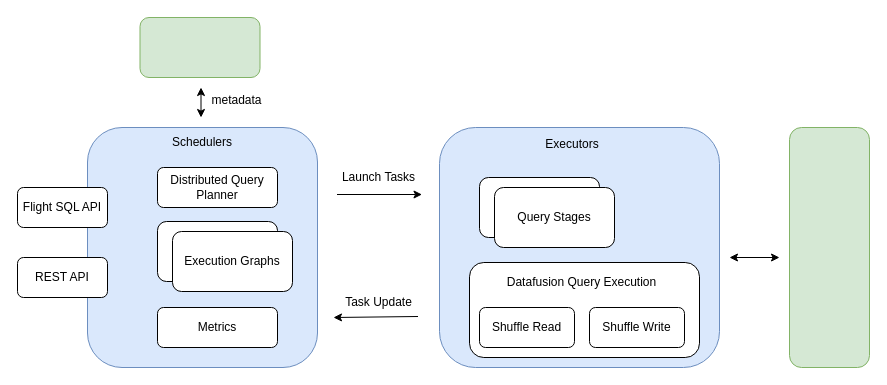
Some shapes in this 887 by 385 pixel diagram are drawn without their labels. Each missing label, with the centre of its shape:
"FileSystem or ObjectStore" belongs at (x=829, y=247).
"Shared KV" belongs at (x=199, y=47).
